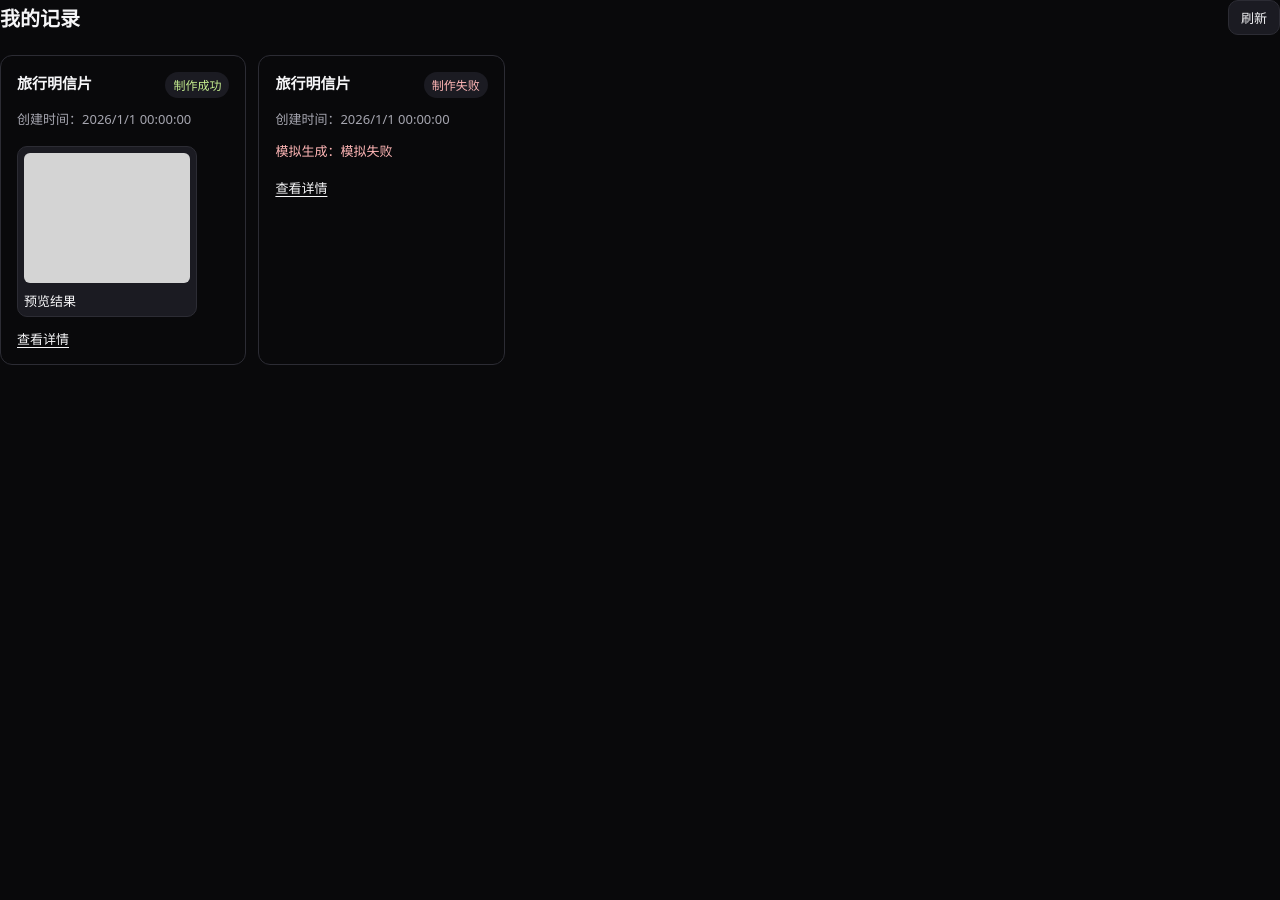
Test case: history displays success, failure and an accessible result preview
Expected: the text "模拟生成：模拟失败" is shown, [275, 142, 392, 160]
Expected: the text "制作成功" is shown, [165, 72, 229, 98]
Click the button "预览结果": x=107, y=232 [17, 146, 197, 317]
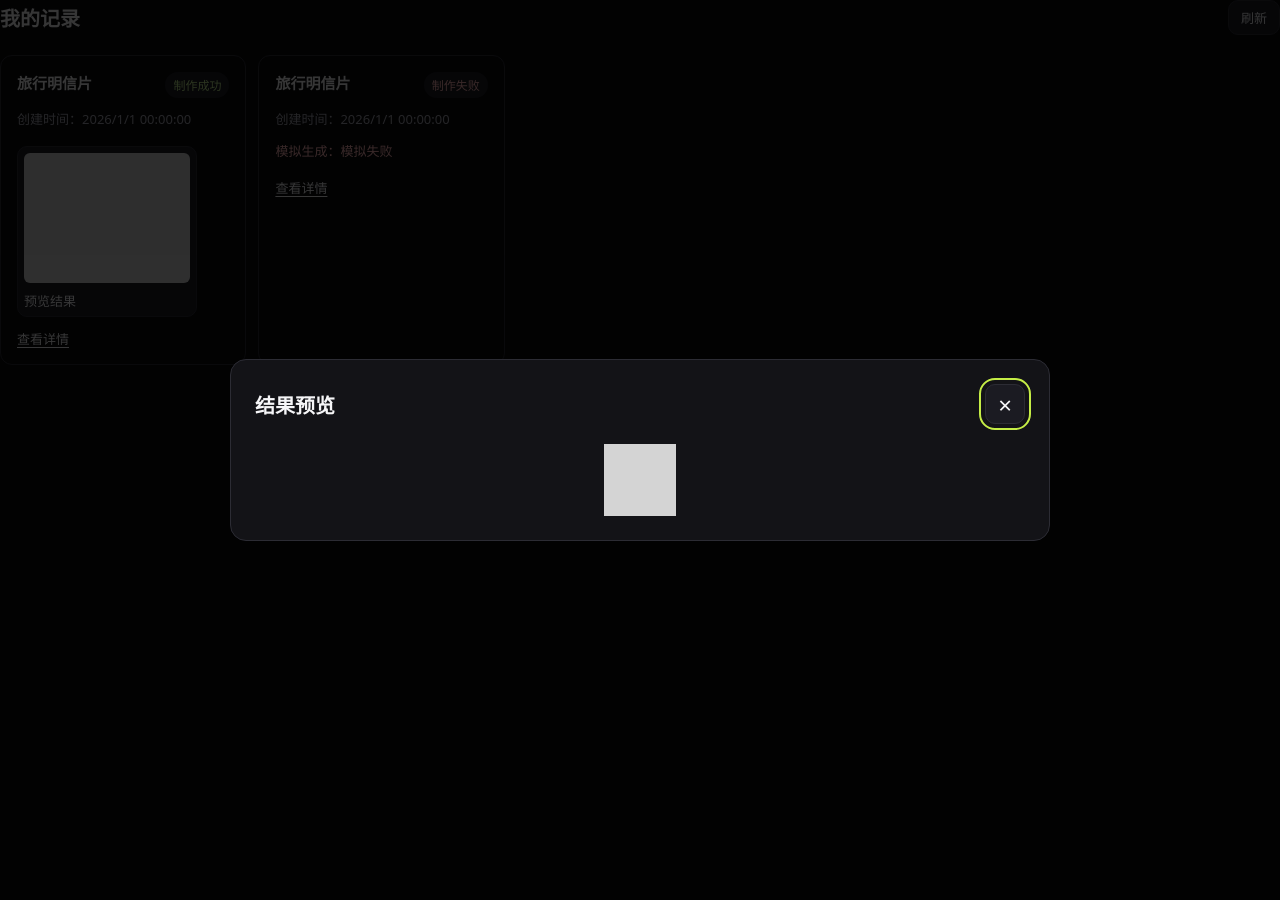
Expected: the dialog "结果预览" is shown, [230, 359, 1050, 541]
Press Escape
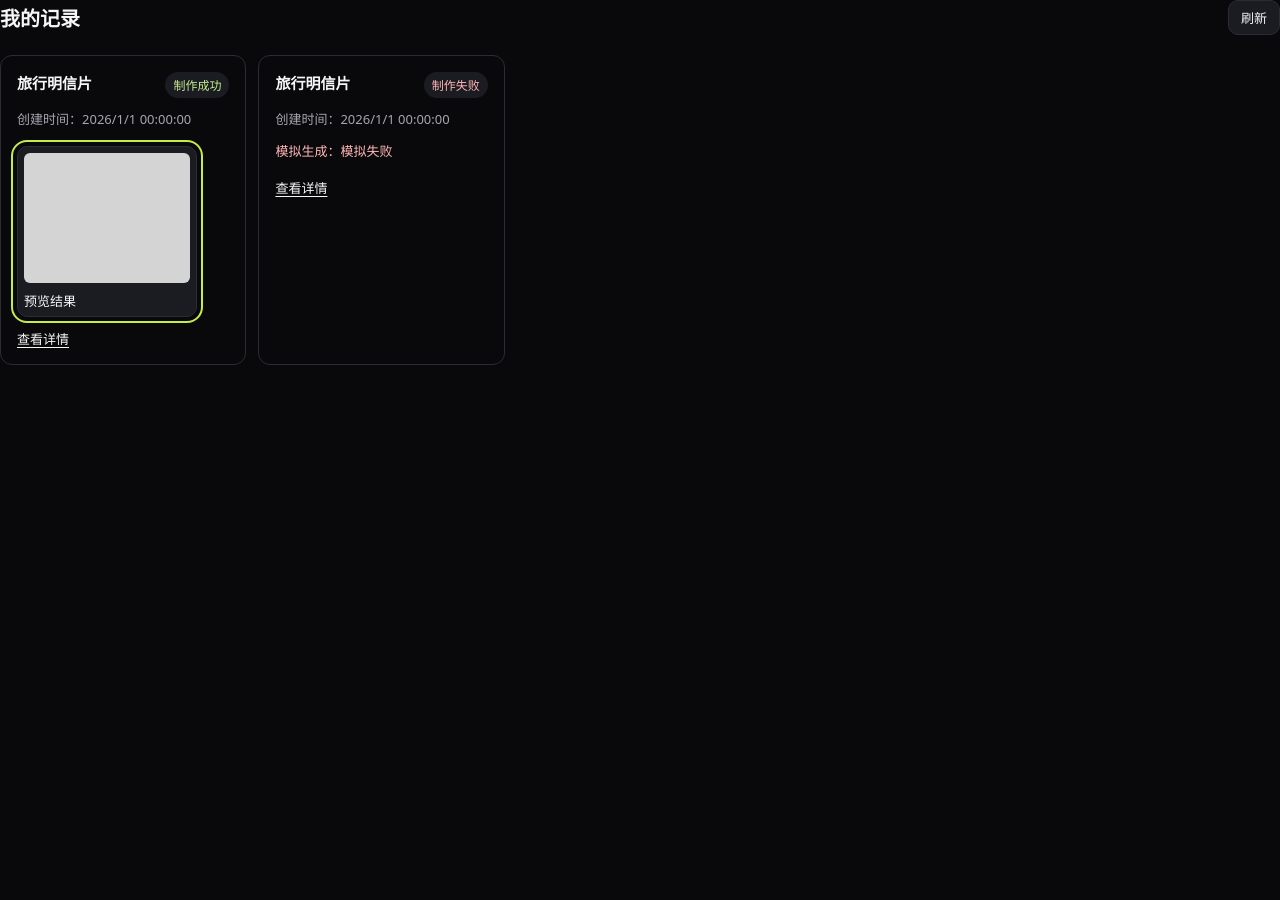
Expected: the dialog is gone
